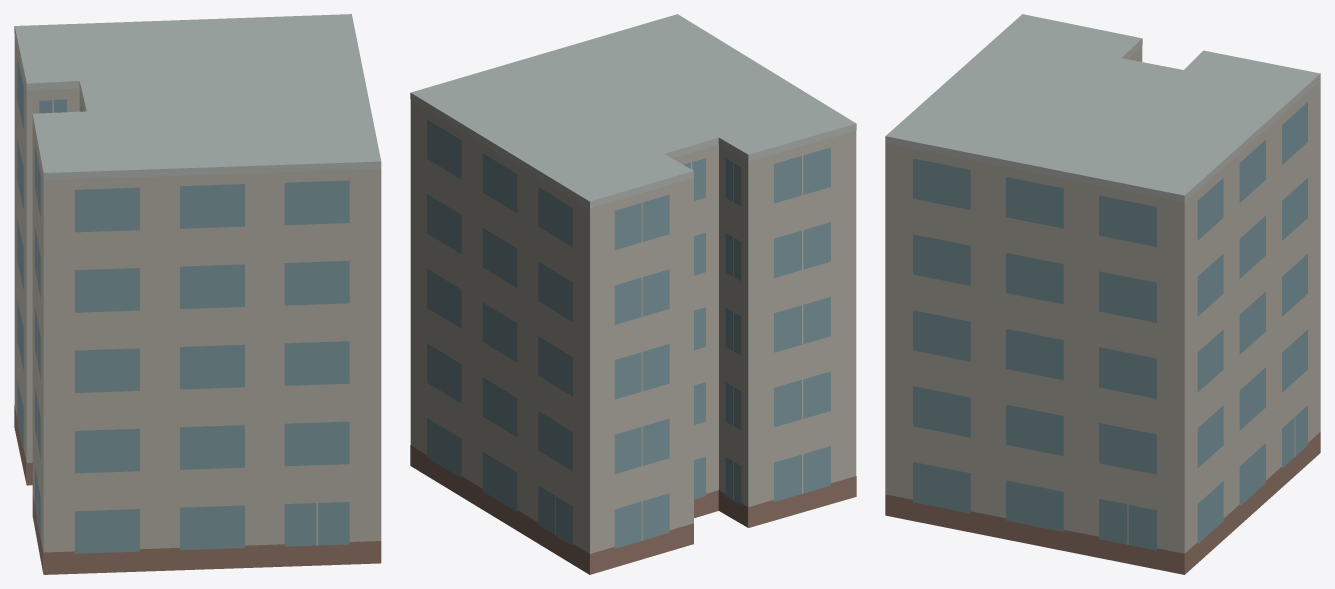
Rendered from survey-upis-32637815.glb.
3 renders of one model, left to right at view 1: azimuth 30°, elevation 25°; view 2: azimuth 150°, elevation 25°; view 3: azimuth 270°, elevation 25°, orthographic. The views are drawn at different scales.
Parts seen in each view (by area): view 1: survey-upis-32637815.tmp; view 2: survey-upis-32637815.tmp; view 3: survey-upis-32637815.tmp.
Boxes of the visible parts, x1,y1,x2,y2 form: survey-upis-32637815.tmp: (14,14,381,574); survey-upis-32637815.tmp: (410,14,856,574); survey-upis-32637815.tmp: (885,14,1320,574).
Size of the model in its own units: 13.66 by 13.3 by 13.84.
